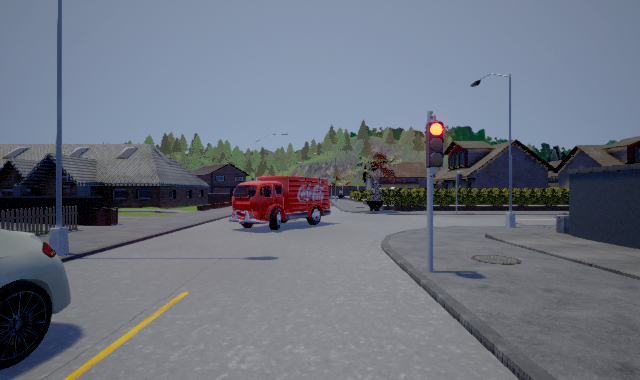traffic_light: (426, 119, 445, 168)
vehicle: (1, 229, 71, 370), (229, 175, 331, 230)
